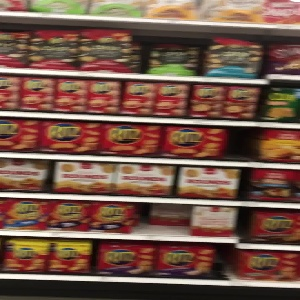void: (131, 205, 193, 235), (222, 128, 257, 161)
